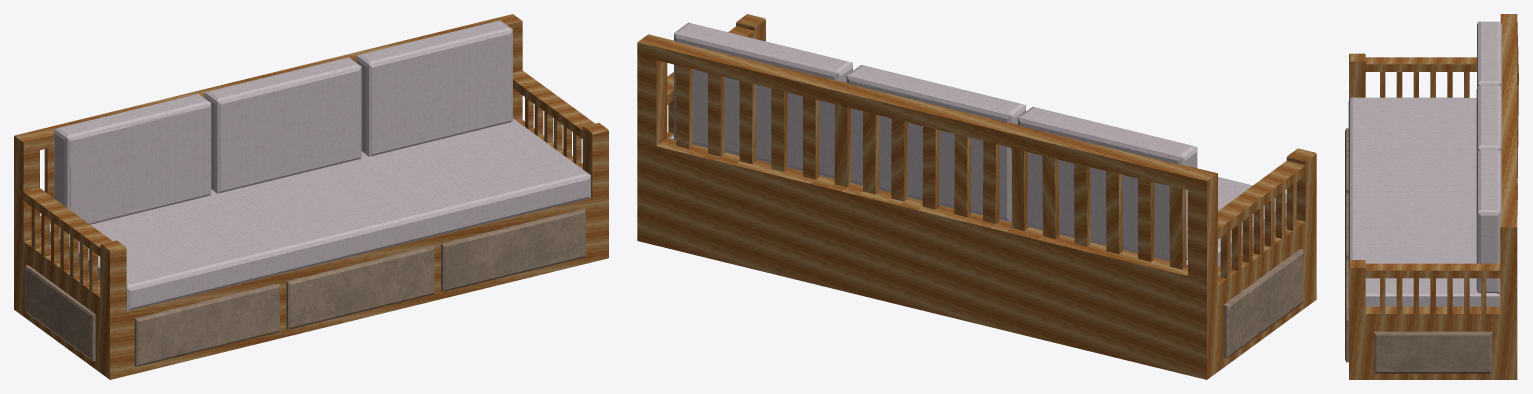
File: sofa-3.glb
3 views of the same model, side by side, from view 1: azimuth 30°, elevation 25°; view 2: azimuth 150°, elevation 25°; view 3: azimuth 270°, elevation 25° (orthographic). The views are drawn at different scales.
Parts seen in each view (by area): view 1: beve_14 - Default_0; view 2: beve_14 - Default_0; view 3: beve_14 - Default_0.
Boxes of the visible parts, x1,y1,x2,y2 form: beve_14 - Default_0: (14,14,608,379); beve_14 - Default_0: (637,14,1316,379); beve_14 - Default_0: (1345,14,1518,379).
Size of the model in its own units: 2.1 by 0.7197 by 0.7117.
5 materials, 5 textured.
